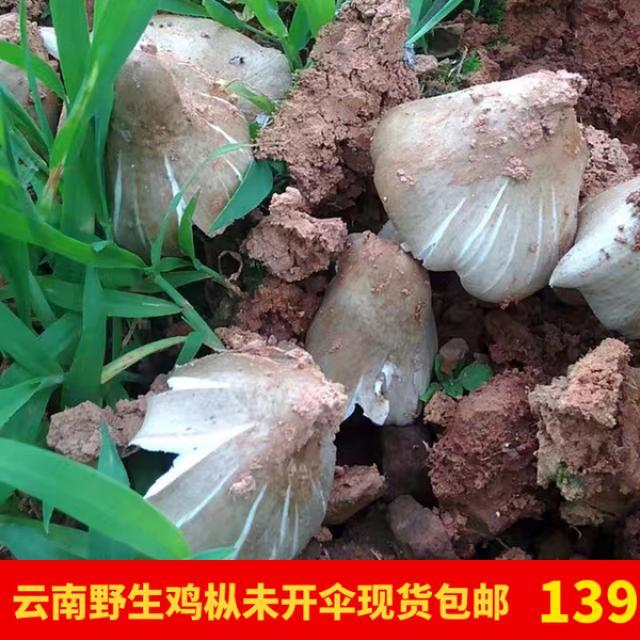Collybia albuminosa: (0, 14, 292, 249), (371, 74, 592, 303), (130, 351, 347, 558), (252, 231, 439, 426)
